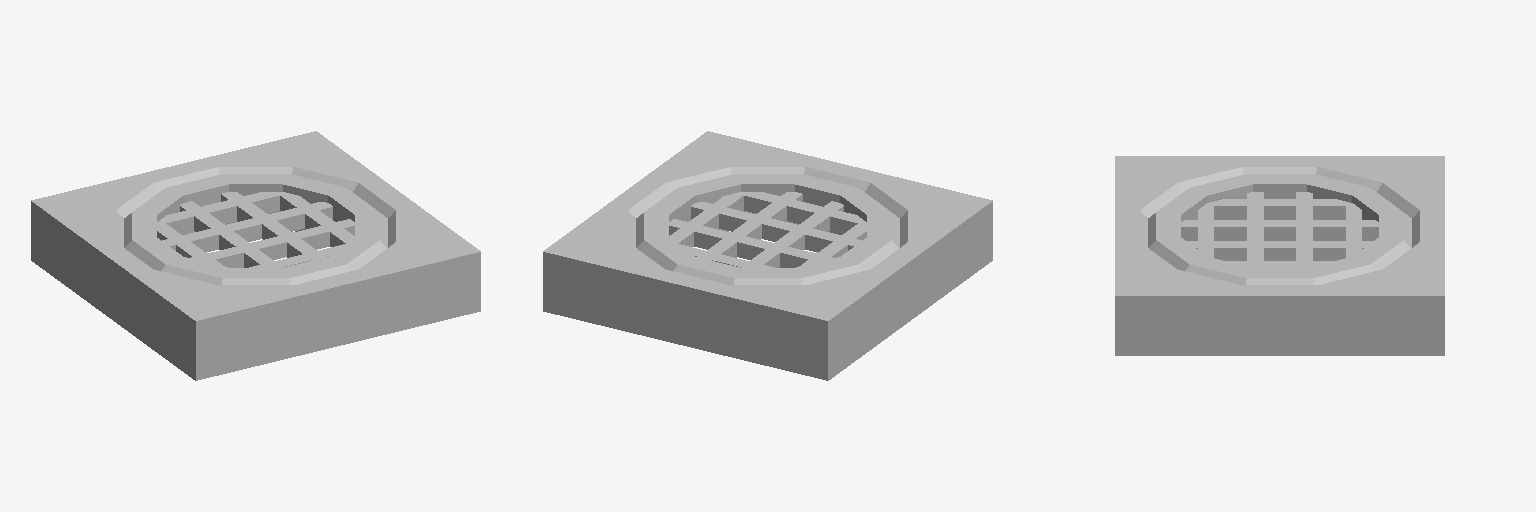
File: struct_floor_grate_round.obj
3 views of the same model, side by side, from view 1: azimuth 30°, elevation 25°; view 2: azimuth 150°, elevation 25°; view 3: azimuth 270°, elevation 25° (orthographic).
Parts seen in each view (by area): view 1: object1, object2; view 2: object1, object2; view 3: object1, object2.
Boxes of the visible parts, x1=… form: object1: x1=31, y1=131, x2=480, y2=380; object2: x1=124, y1=174, x2=387, y2=284; object1: x1=543, y1=131, x2=992, y2=380; object2: x1=636, y1=174, x2=899, y2=284; object1: x1=1115, y1=156, x2=1444, y2=355; object2: x1=1148, y1=174, x2=1411, y2=284.
Bounding box in the file's own units: 1 × 0.2 × 1.